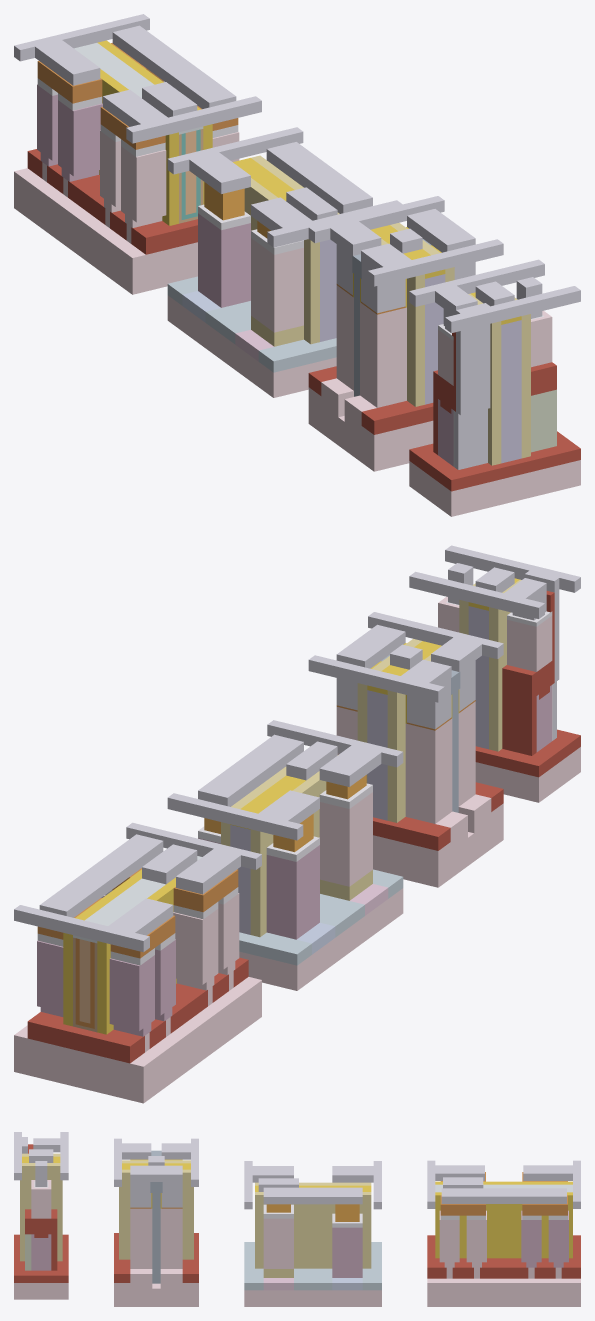
File: inv_cmp.glb
3 renders of one model, top to bottom at view 1: azimuth 30°, elevation 25°; view 2: azimuth 150°, elevation 25°; view 3: azimuth 270°, elevation 25°, orthographic. The views are drawn at different scales.
Parts seen in each view (by area): view 1: inv_fs_substrate, inv_fin_n_substrate, inv_cfet_ni_lo_source, inv_fin_n_epi_source, inv_fin_p_epi_source, inv_cfet_substrate, inv_fs_epi_n_source, inv_ns_n_epi_source, inv_ns_p_epi_source, inv_fin_m1_gnd, inv_fin_m1_out, inv_cfet_box (+48 smaller); view 2: inv_fin_p_substrate, inv_fs_substrate, inv_fin_p_epi_source, inv_fin_n_epi_source, inv_fs_epi_p_source, inv_ns_p_epi_source, inv_ns_n_epi_source, inv_fin_p_sti, inv_fin_m1_out, inv_fin_m1_vdd, inv_ns_m1_vdd, inv_fin_m1_gnd (+41 smaller); view 3: inv_fs_substrate, inv_fin_n_substrate, inv_fin_p_substrate, inv_fin_m1_out, inv_fin_p_epi_drain, inv_fin_n_epi_drain, inv_ns_m1_out, inv_cfet_spacer_drain, inv_fin_b_spacers, inv_ns_p_epi_drain, inv_ns_n_epi_drain, inv_ns_b_spacers (+45 smaller).
Boxes of the visible parts, left/top/right/bottom form: inv_fs_substrate: left=308, top=378, right=433, bottom=471; inv_fin_n_substrate: left=77, top=214, right=197, bottom=294; inv_cfet_ni_lo_source: left=454, top=324, right=490, bottom=469; inv_fin_n_epi_source: left=100, top=130, right=166, bottom=227; inv_fin_p_epi_source: left=37, top=84, right=102, bottom=181; inv_cfet_substrate: left=409, top=460, right=580, bottom=516; inv_fs_epi_n_source: left=360, top=302, right=406, bottom=407; inv_ns_n_epi_source: left=251, top=238, right=303, bottom=332; inv_ns_p_epi_source: left=198, top=213, right=250, bottom=307; inv_fin_m1_gnd: left=103, top=89, right=261, bottom=143; inv_fin_m1_out: left=112, top=25, right=236, bottom=108; inv_cfet_box: left=409, top=431, right=580, bottom=491; inv_fin_p_substrate: left=14, top=1023, right=198, bottom=1103; inv_fs_substrate: left=373, top=794, right=503, bottom=887; inv_fin_p_epi_source: left=109, top=939, right=175, bottom=1036; inv_fin_n_epi_source: left=173, top=893, right=239, bottom=990; inv_fs_epi_p_source: left=405, top=718, right=452, bottom=823; inv_ns_p_epi_source: left=266, top=845, right=319, bottom=939; inv_ns_n_epi_source: left=319, top=792, right=372, bottom=886; inv_fin_p_sti: left=27, top=1004, right=185, bottom=1063; inv_fin_m1_out: left=39, top=834, right=163, bottom=917; inv_fin_m1_vdd: left=14, top=898, right=173, bottom=952; inv_ns_m1_vdd: left=167, top=790, right=319, bottom=840; inv_fin_m1_gnd: left=126, top=822, right=261, bottom=894; inv_fs_substrate: left=114, top=1269, right=198, bottom=1306; inv_fin_n_substrate: left=427, top=1278, right=498, bottom=1306; inv_fin_p_substrate: left=509, top=1278, right=580, bottom=1306; inv_fin_m1_out: left=441, top=1188, right=566, bottom=1203; inv_fin_p_epi_drain: left=521, top=1210, right=568, bottom=1267; inv_fin_n_epi_drain: left=439, top=1210, right=486, bottom=1267; inv_ns_m1_out: left=263, top=1187, right=362, bottom=1204; inv_cfet_spacer_drain: left=20, top=1163, right=62, bottom=1261; inv_fin_b_spacers: left=491, top=1181, right=517, bottom=1258; inv_ns_p_epi_drain: left=332, top=1227, right=362, bottom=1277; inv_ns_n_epi_drain: left=263, top=1218, right=293, bottom=1268; inv_ns_b_spacers: left=302, top=1182, right=323, bottom=1268.
Size of the model in its own units: 96 by 146 by 561.
